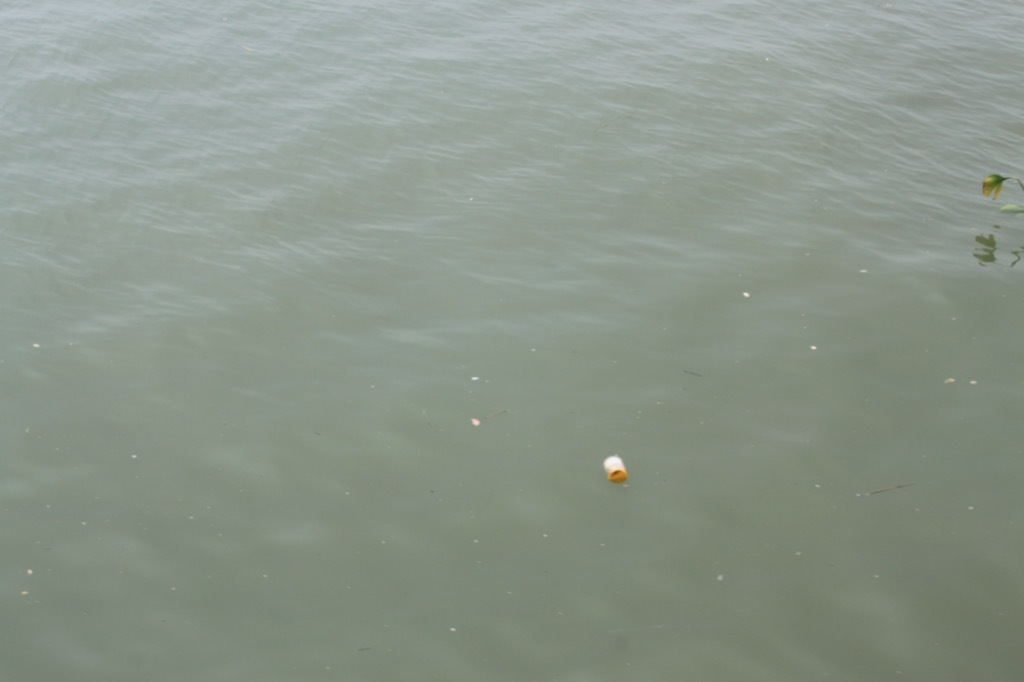organic: (956, 152, 1024, 288), (843, 475, 928, 503), (673, 360, 726, 388)
plastic: (602, 448, 633, 489), (967, 375, 982, 390), (468, 414, 482, 430), (807, 340, 821, 355), (942, 374, 957, 387), (740, 287, 752, 302), (30, 339, 42, 353), (21, 586, 32, 601), (447, 623, 459, 636), (469, 372, 480, 385), (714, 572, 725, 585), (527, 343, 537, 356), (541, 528, 551, 541), (24, 567, 36, 577), (858, 267, 871, 276), (130, 451, 140, 462), (67, 340, 76, 350), (474, 536, 482, 546), (188, 514, 196, 521)
